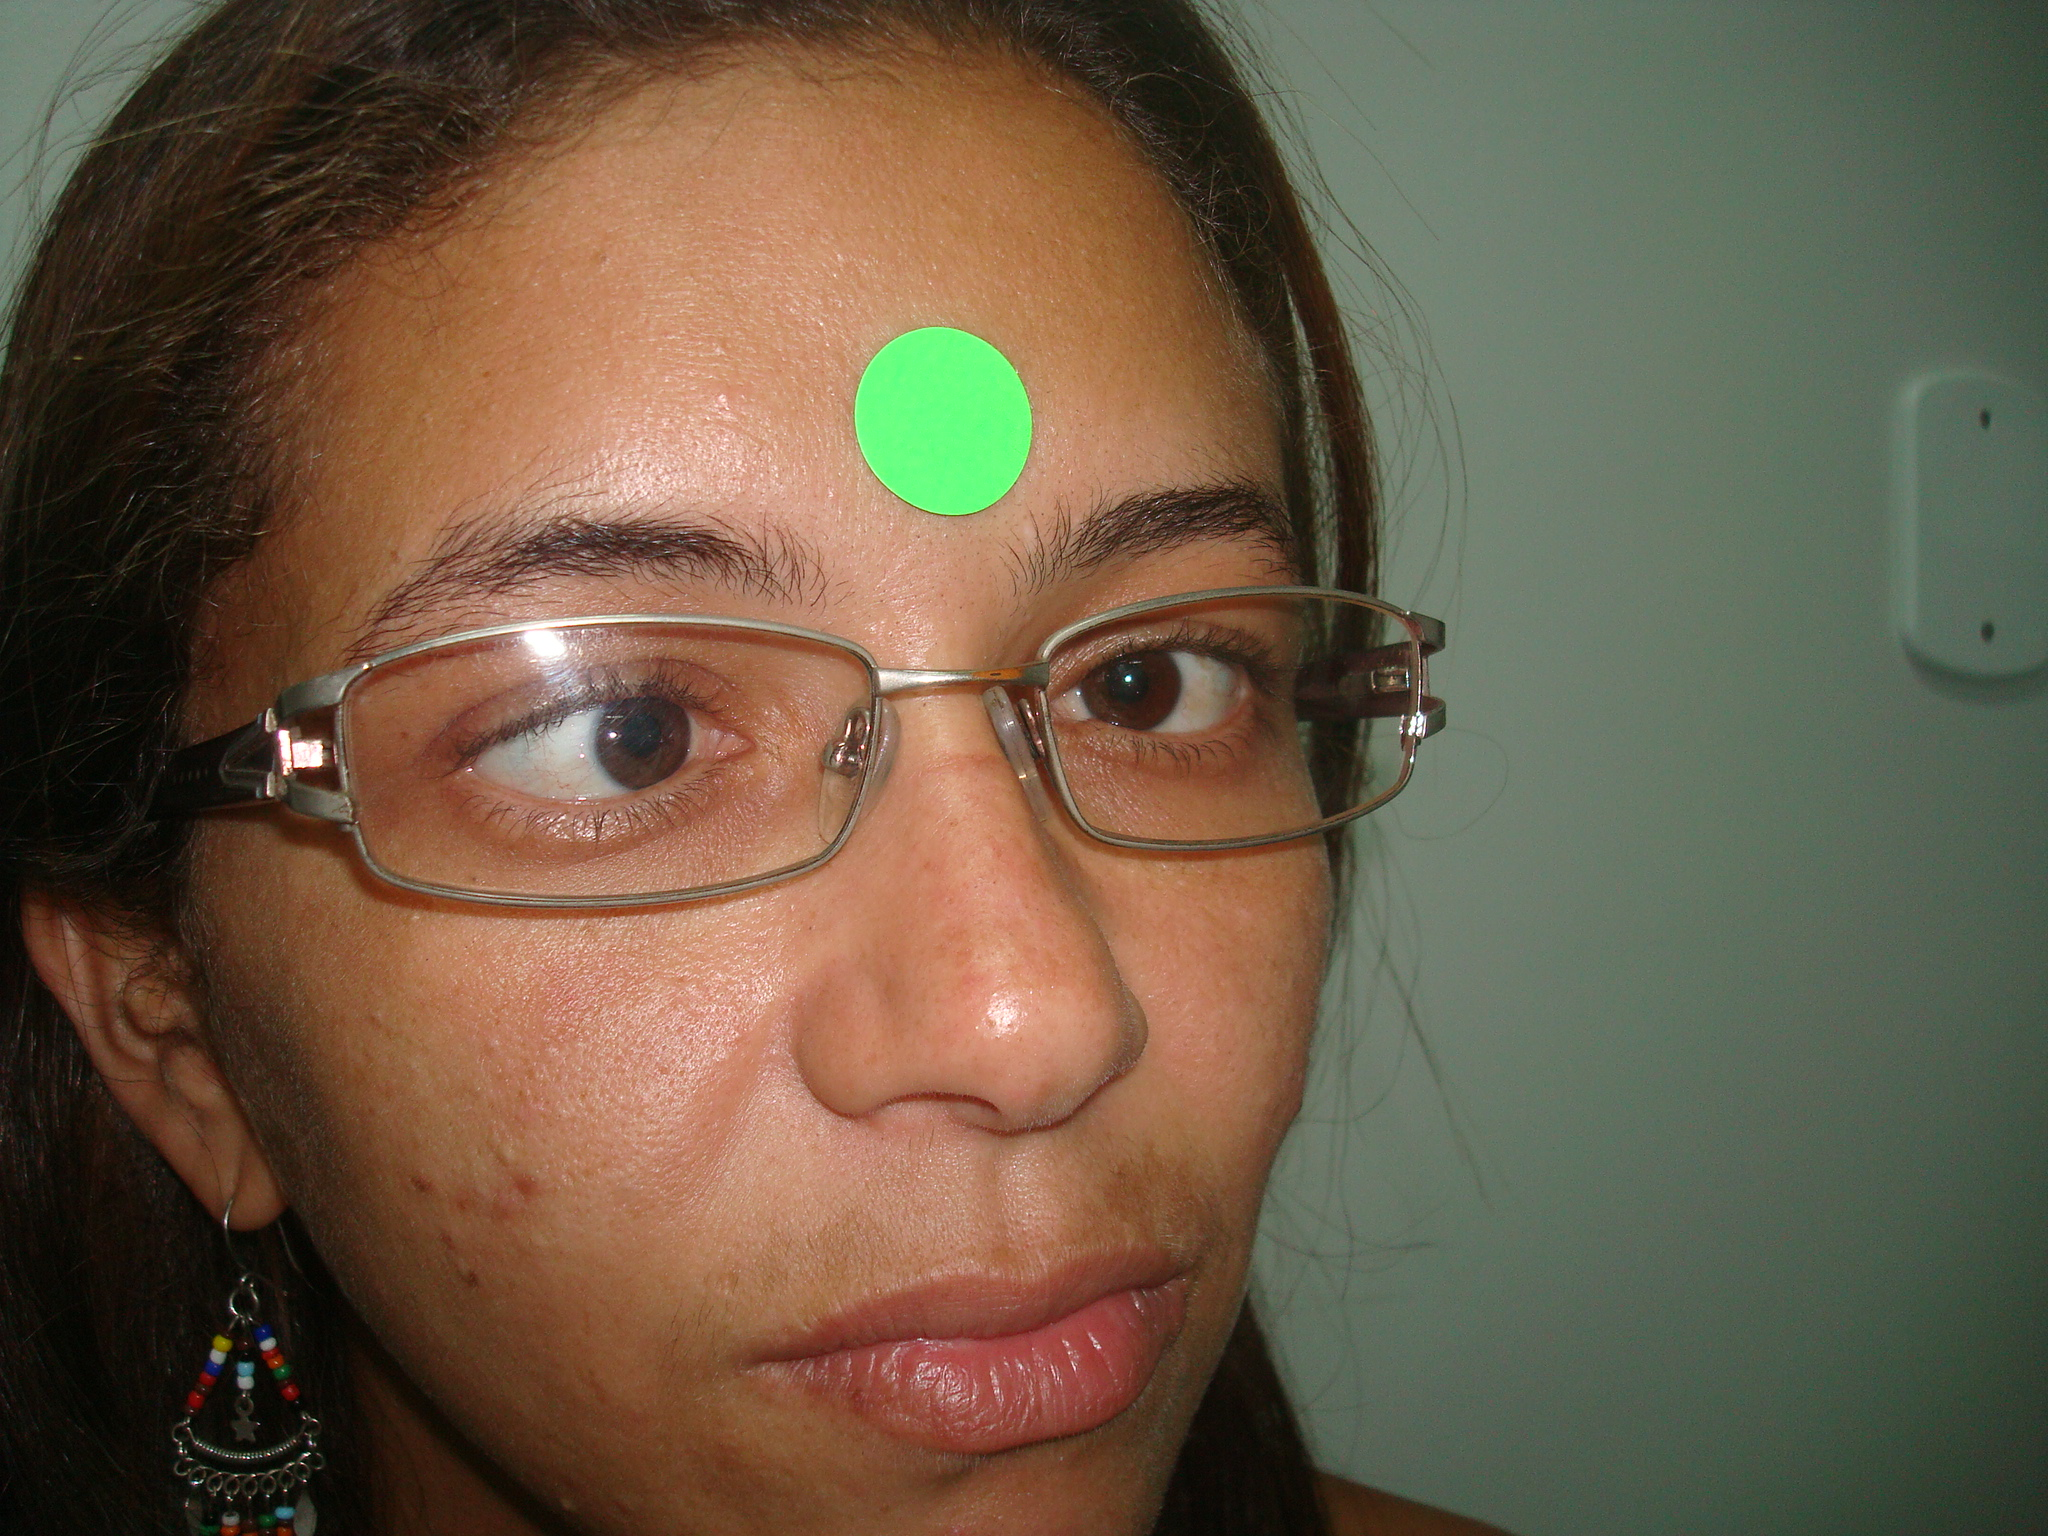flash: (1121, 670, 1135, 686), (606, 728, 619, 742)
limbo: (593, 686, 693, 784), (1079, 641, 1176, 724)
